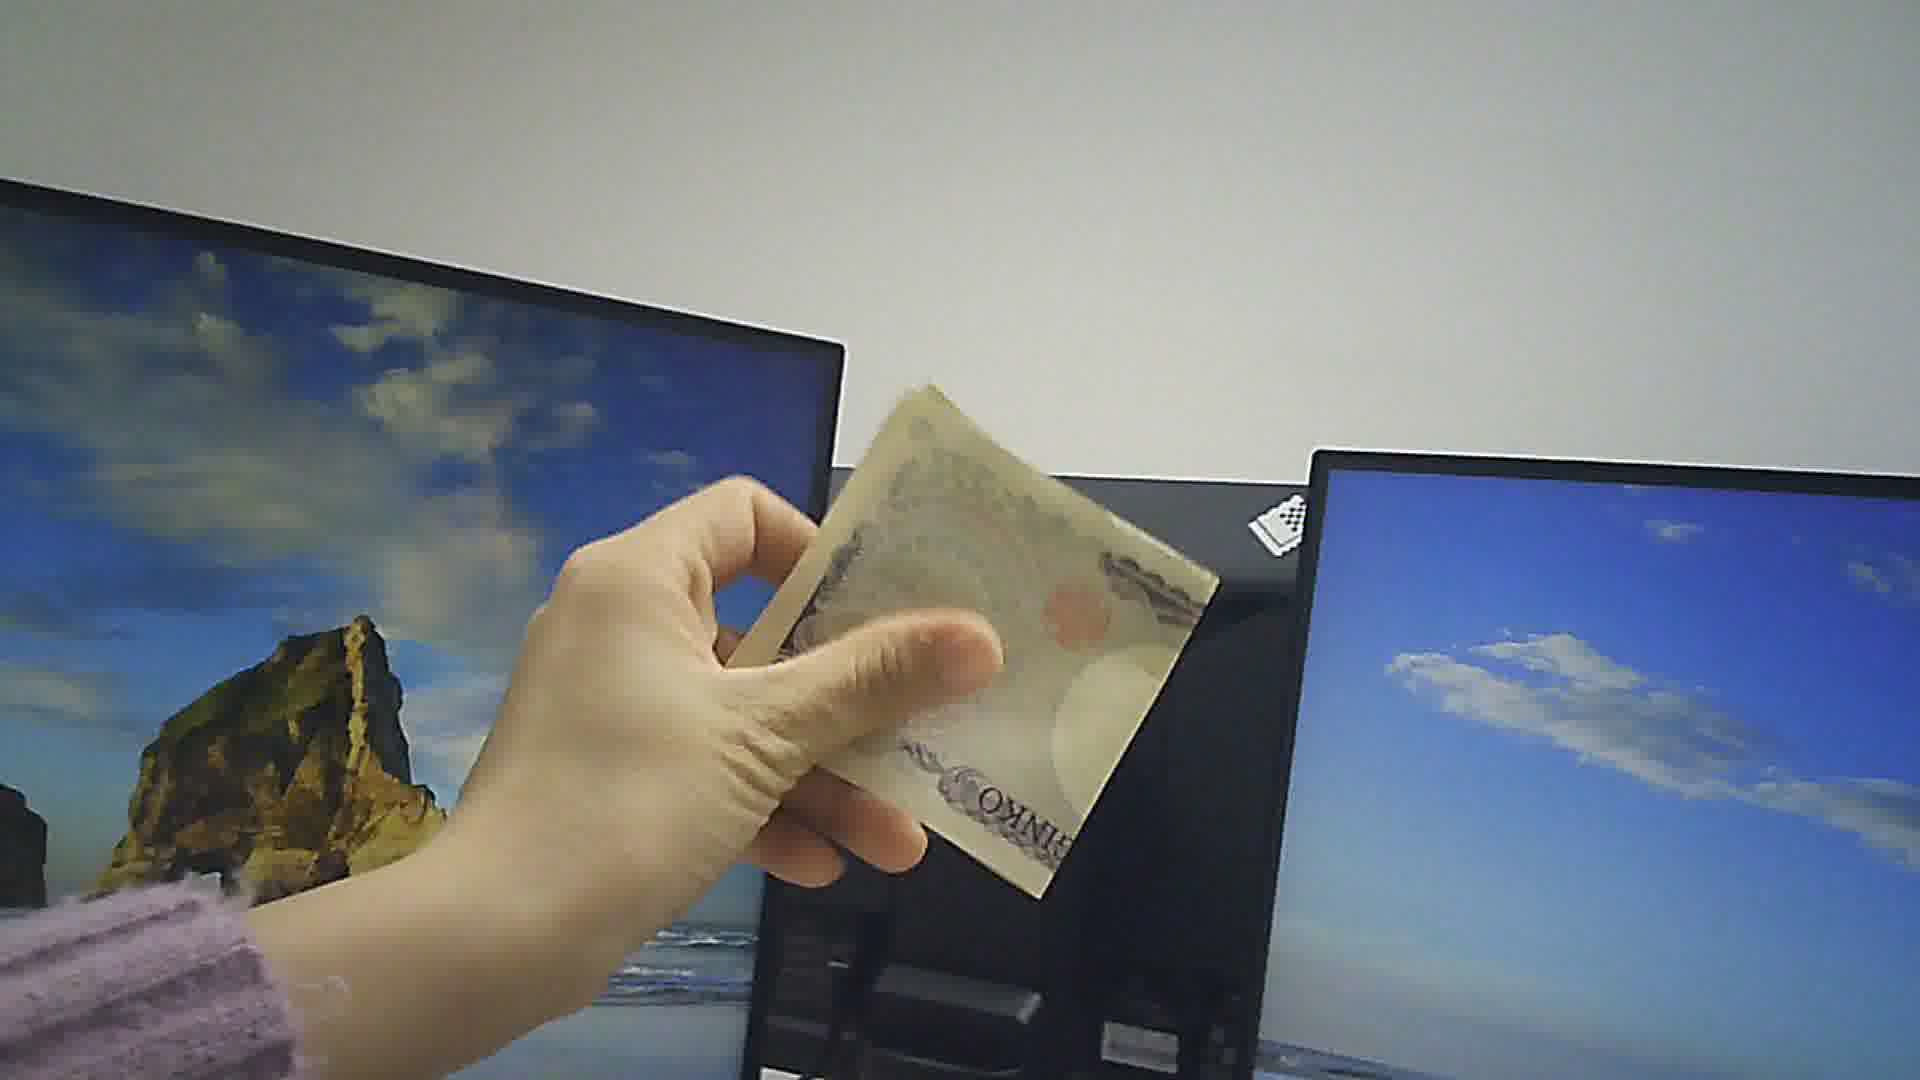5,000 Yen: (700, 388, 1218, 899)
